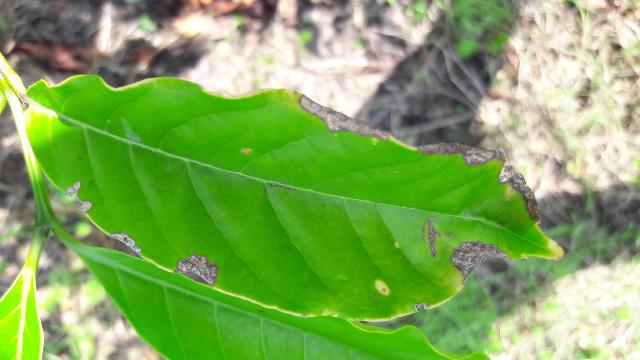rust_level_1: (29, 78, 563, 320)
